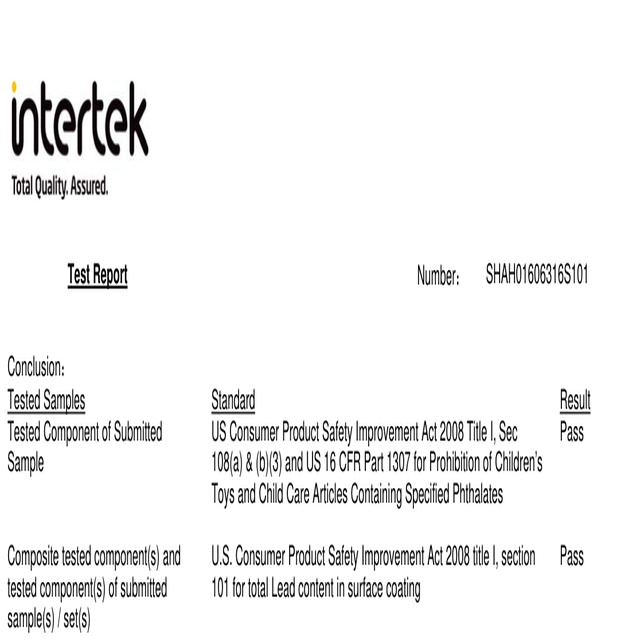intertek: (6, 79, 153, 162)
